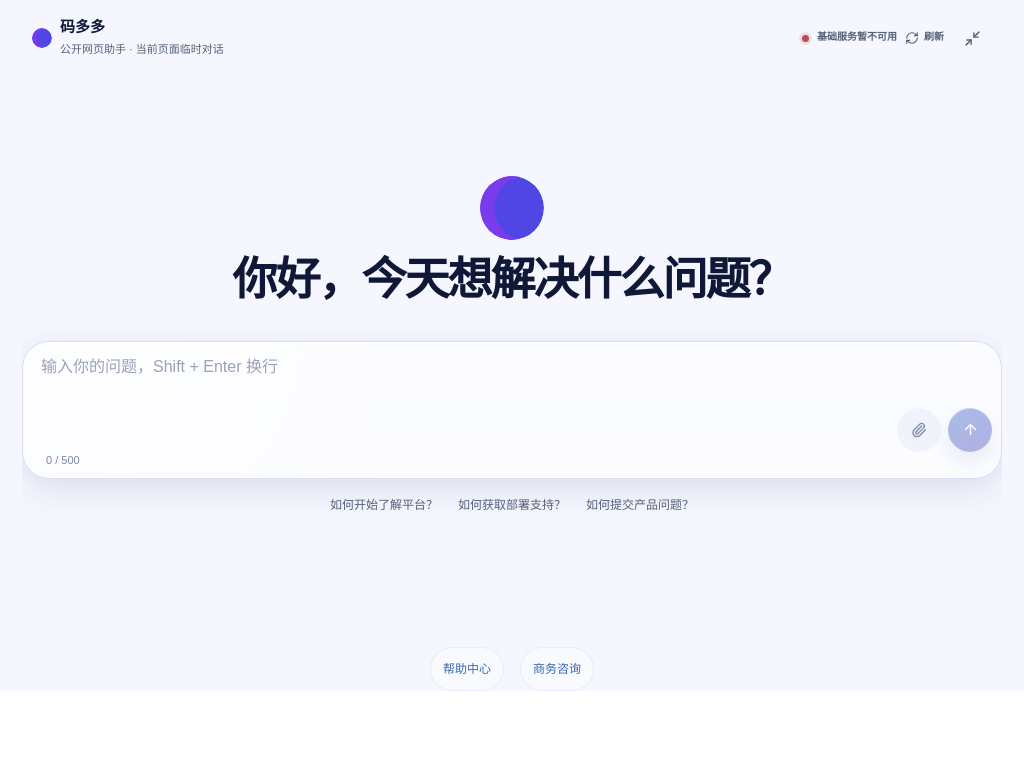
Scenario: AssistantWorkspace › manually refreshes status through the public versioned endpoint
The width and height of the screenshot is (1024, 768).
Click the button with aria-label "刷新服务状态" at (924, 38), box left=905, top=16, right=944, bottom=60
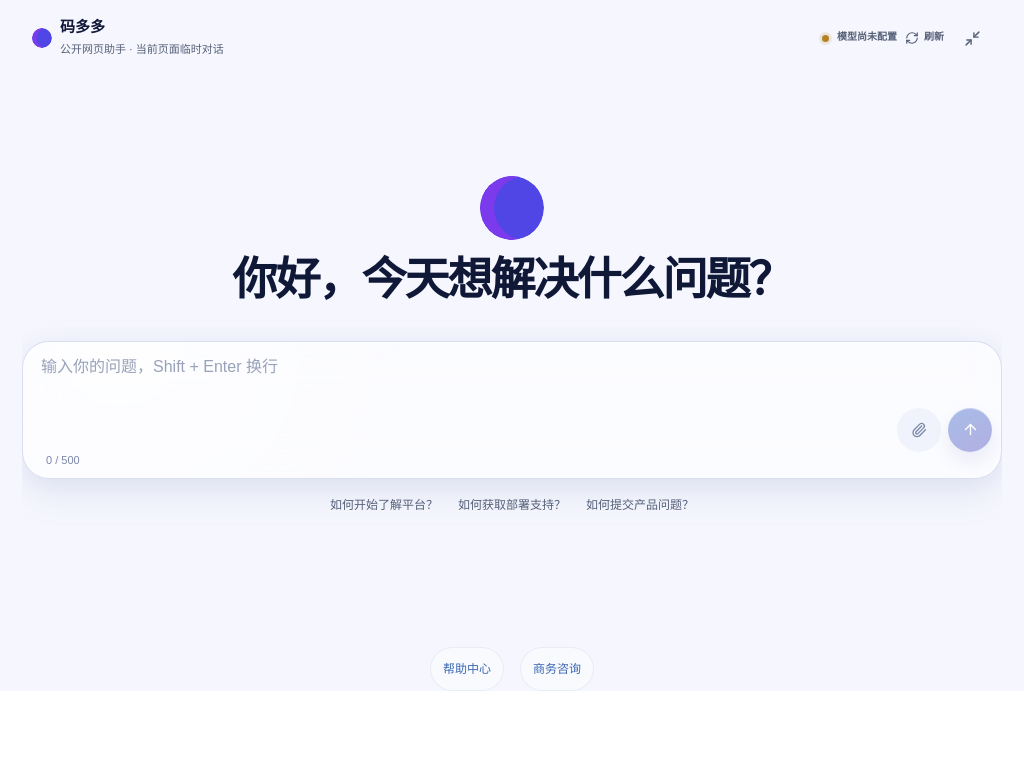
Check: the text "模型尚未配置" is shown, box left=837, top=33, right=897, bottom=43
